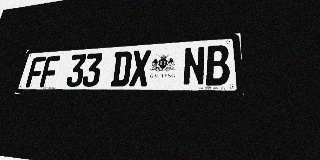3: (81, 53, 103, 87), (65, 54, 87, 87)
B: (206, 45, 230, 86)
D: (110, 51, 132, 87)
F: (39, 55, 60, 87), (25, 56, 46, 87)
N: (182, 46, 205, 86)
X: (129, 50, 151, 86)
